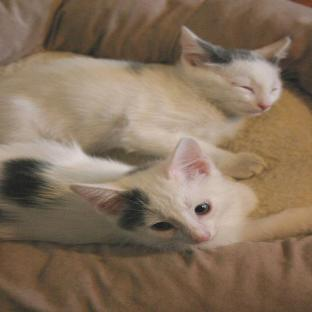Animal: (0, 27, 311, 250)
